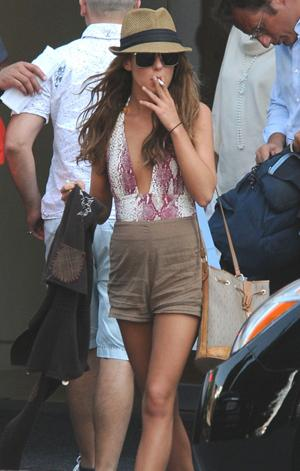person: (61, 1, 221, 471)
